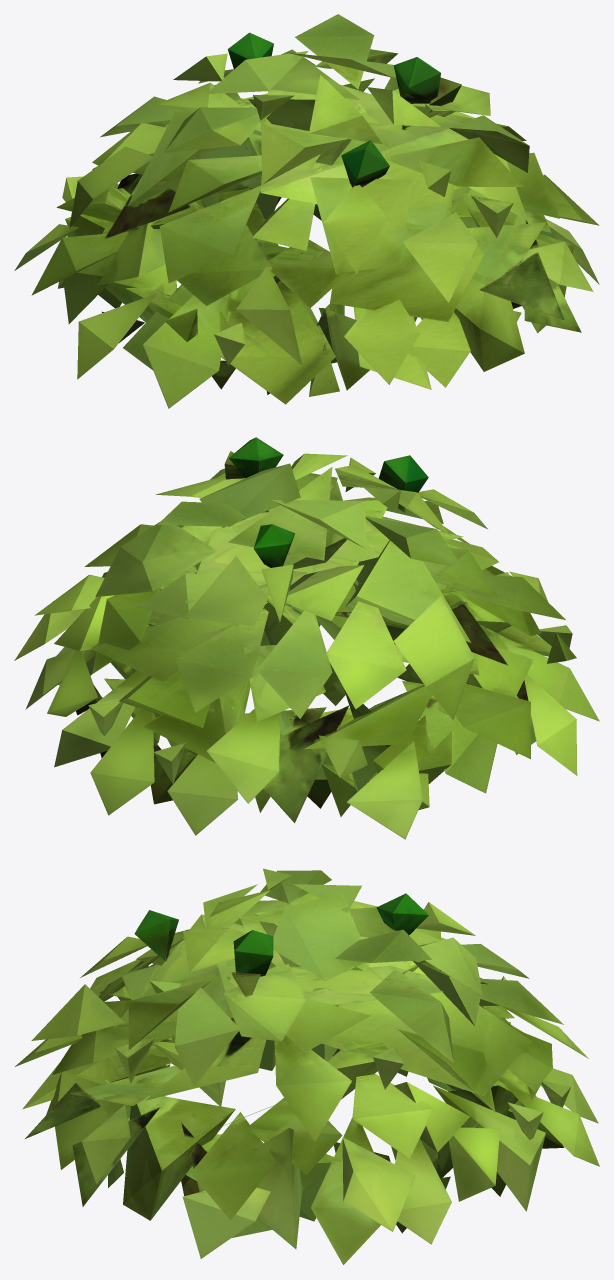
Rendered from bush.glb.
3 views of the same model, one above another, from view 1: azimuth 30°, elevation 25°; view 2: azimuth 150°, elevation 25°; view 3: azimuth 270°, elevation 25° (orthographic).
Bounding box in the file's own units: 1.26 × 0.6 × 1.26.
Materials: 1 (1 with a texture image).
